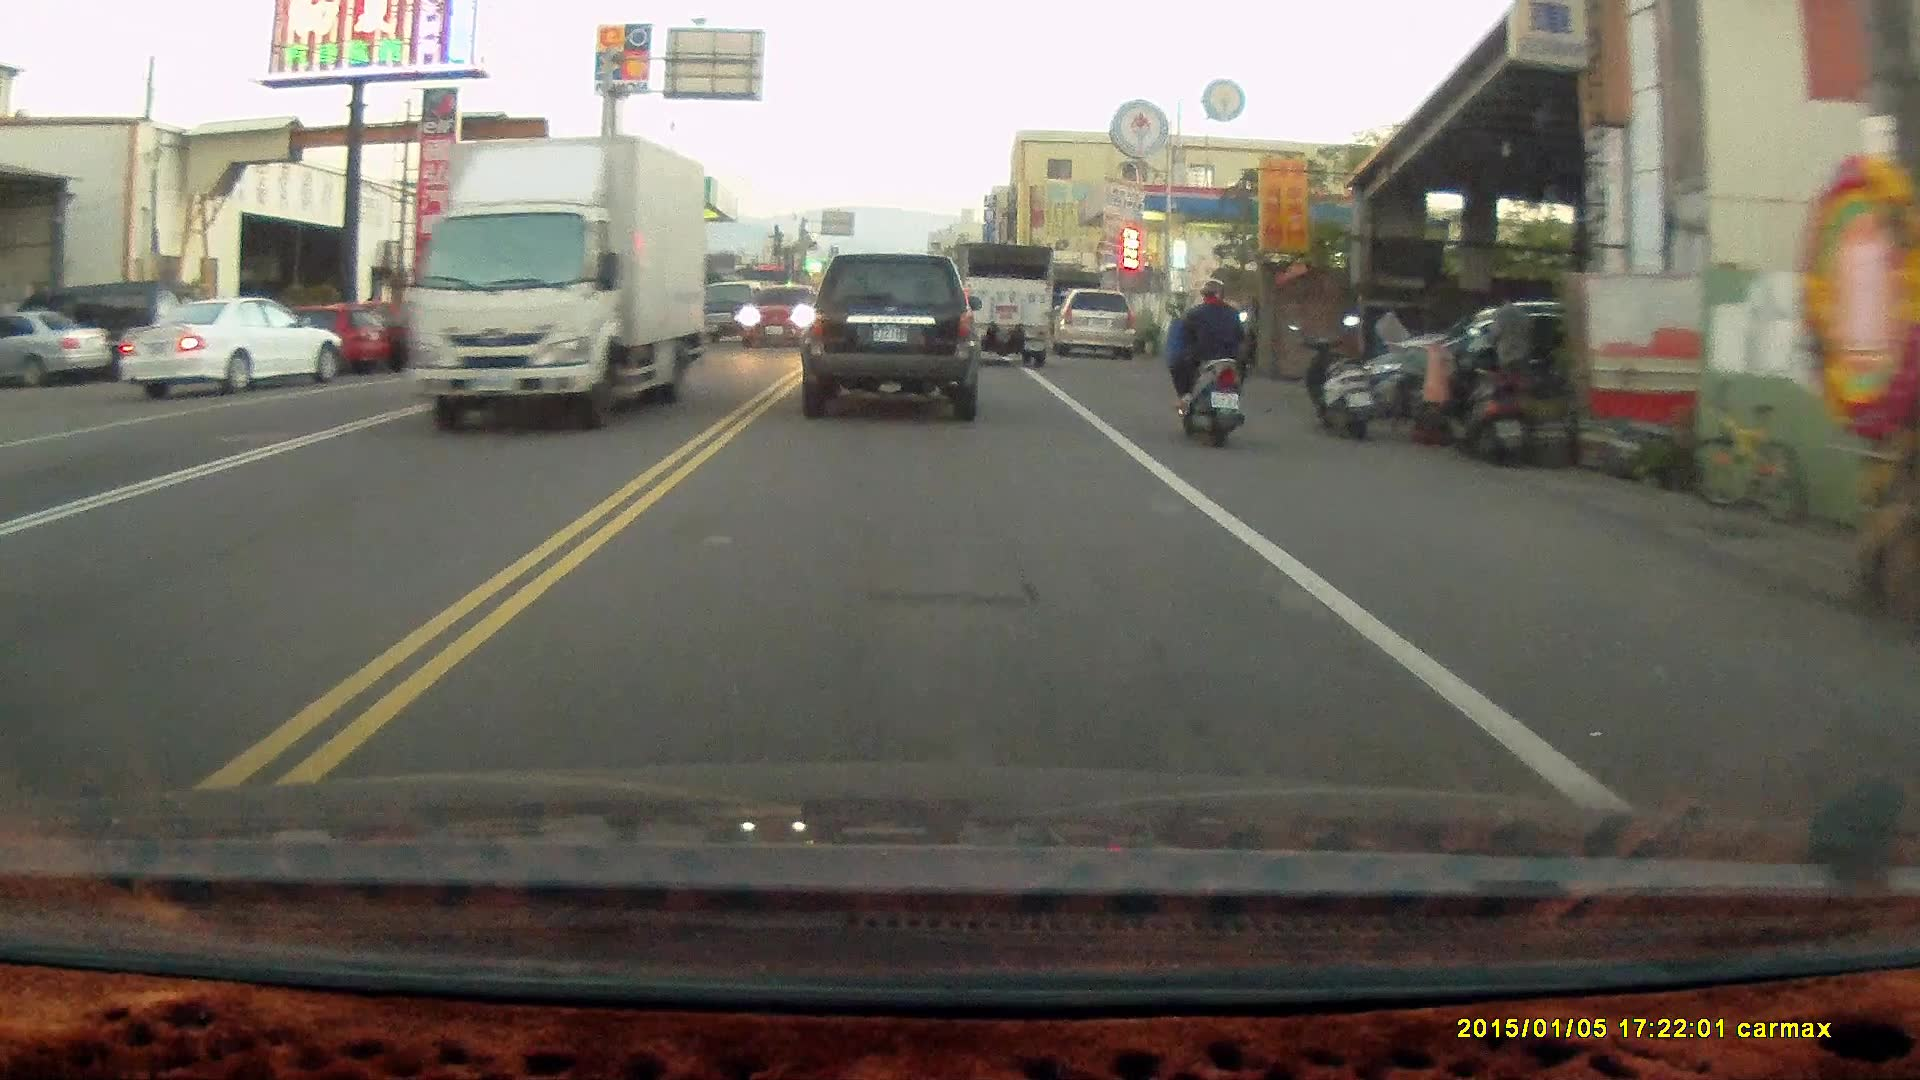pedestrian: (1485, 286, 1535, 422)
rider: (1163, 275, 1249, 449)
vehicle: (417, 131, 716, 438), (796, 248, 982, 420), (121, 299, 348, 402), (961, 237, 1054, 364), (1, 304, 112, 383), (736, 281, 821, 352), (1056, 284, 1136, 359)
